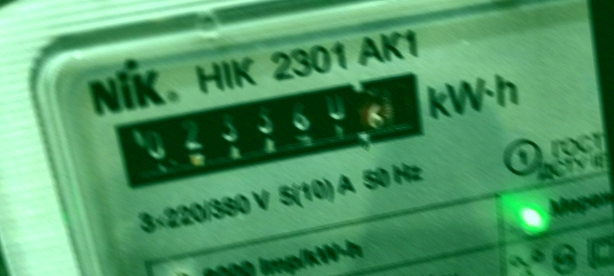0: (141, 125, 167, 162), (321, 89, 346, 123)
2: (179, 116, 203, 151)
3: (251, 100, 274, 135), (214, 111, 237, 144)
6: (362, 97, 387, 133), (286, 98, 311, 133)
screen: (95, 61, 442, 197)
